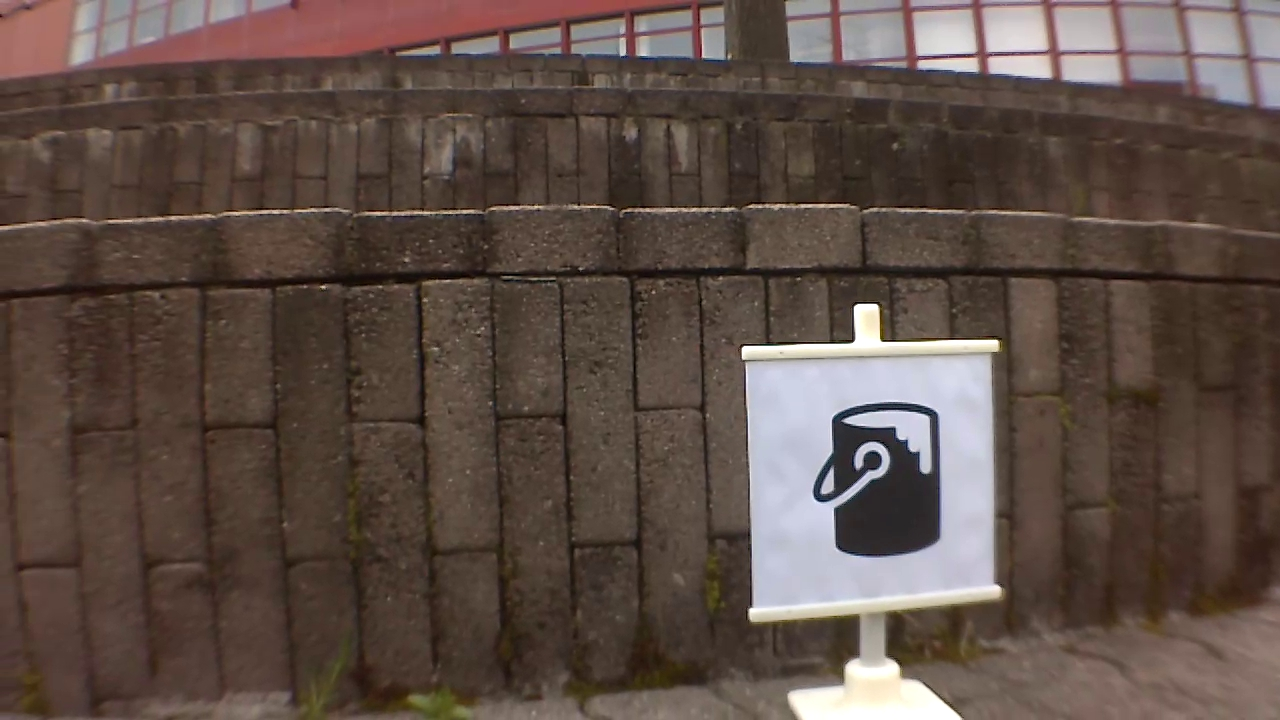bucket: (809, 405, 947, 566)
